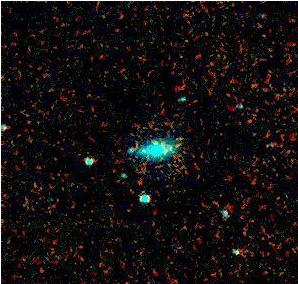star: (138, 125, 168, 155)
